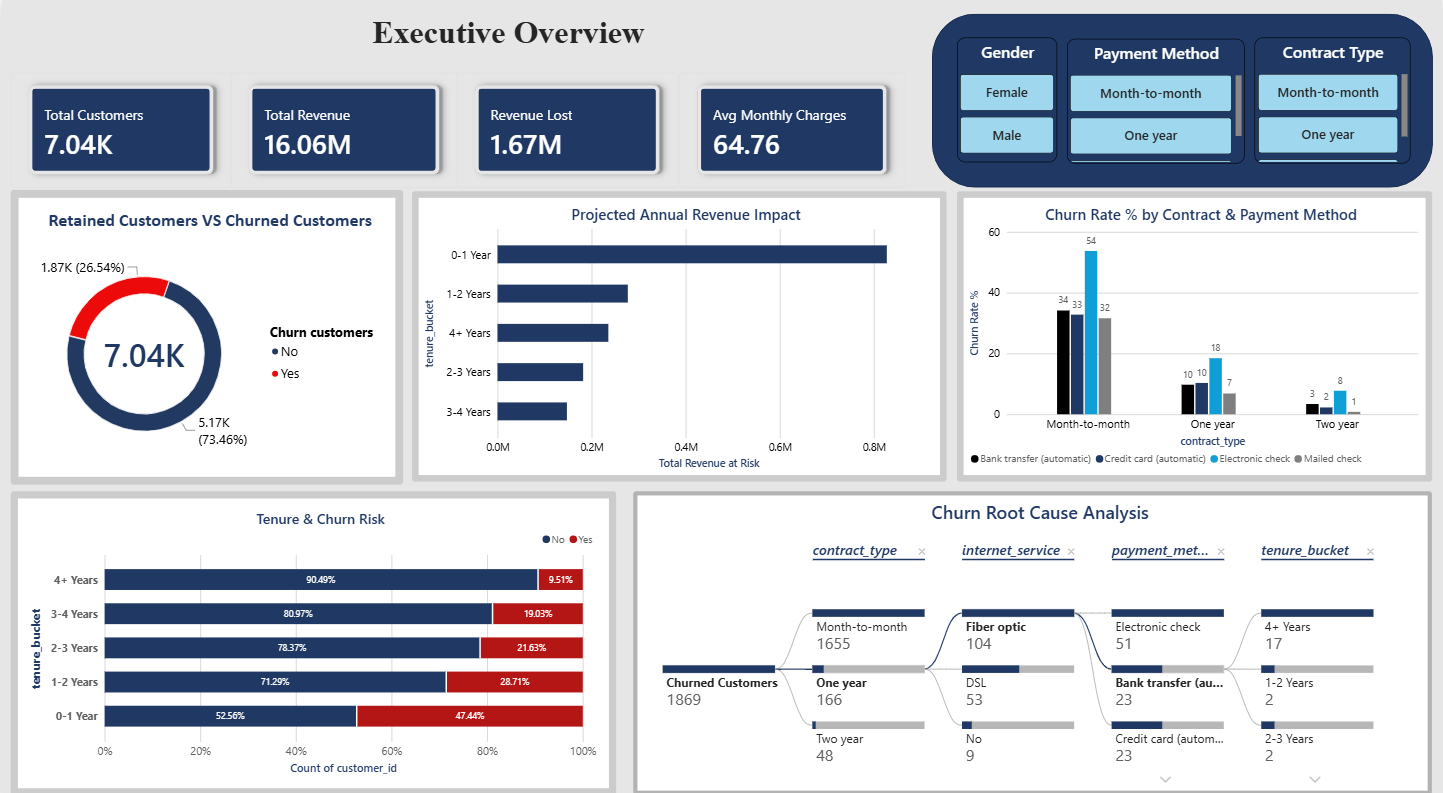

This screenshot's page, from the dashboard's own definition file:
{"tool":"powerbi","page":{"name":"Churn Overview","canvas":[1920,1080],"ordinal":0},"visuals":[{"type":"cardVisual","fields":{"Data":["telecom_churn_cleaned.Total Customers"]},"box":[10.9,95.9,295,153.8],"z":0},{"type":"hundredPercentStackedBarChart","title":"Tenure & Churn Risk","fields":{"Category":["telecom_churn_cleaned.tenure_bucket"],"Y":["Count(telecom_churn_cleaned.customer_id)"],"Series":["telecom_churn_cleaned.churn"]},"box":[10.9,655.1,807.1,405.4],"z":1000},{"type":"textbox","box":[10.9,18.1,1283,67],"z":2000},{"type":"cardVisual","fields":{"Data":["telecom_churn_cleaned.Total Revenue"]},"box":[305.8,95.9,302.2,153.8],"z":3000},{"type":"cardVisual","fields":{"Data":["telecom_churn_cleaned.Avg Monthly Charges"]},"box":[903.5,95.9,300.4,153.8],"z":4000},{"type":"shape","box":[1239.6,18.1,667.8,231.6],"z":5000},{"type":"advancedSlicerVisual","title":"Gender","fields":{"Values":["telecom_churn_cleaned.gender"]},"box":[1274,50.7,133.9,166.5],"z":6000},{"type":"advancedSlicerVisual","title":"Payment Method","fields":{"Values":["telecom_churn_cleaned.contract_type"]},"box":[1420.6,52.5,237.1,166.5],"z":7000},{"type":"advancedSlicerVisual","title":"Contract Type","fields":{"Values":["telecom_churn_cleaned.contract_type"]},"box":[1670.3,50.7,208.1,168.3],"z":8000},{"type":"barChart","title":"Projected Annual Revenue Impact","fields":{"Category":["telecom_churn_cleaned.tenure_bucket"],"Y":["telecom_churn_cleaned.Total Revenue at Risk"]},"box":[546.5,255.2,713,387.3],"z":9000},{"type":"clusteredColumnChart","title":"Churn Rate % by Contract & Payment Method","fields":{"Category":["telecom_churn_cleaned.contract_type"],"Y":["telecom_churn_cleaned.Churn Rate %"],"Series":["telecom_churn_cleaned.payment_method"]},"box":[1274,255.2,633.4,387.3],"z":10000},{"type":"decompositionTreeVisual","title":"Churn Root Cause Analysis","fields":{"Analyze":["Sum(telecom_churn_cleaned.is_churned)"],"ExplainBy":["telecom_churn_cleaned.contract_type","telecom_churn_cleaned.internet_service","telecom_churn_cleaned.payment_method","telecom_churn_cleaned.tenure_bucket"]},"box":[841.7,655,1065,405],"z":11000},{"type":"donutChart","title":"Retained Customers VS Churned Customers","fields":{"Y":["CountNonNull(telecom_churn_cleaned.churn)"],"Category":["telecom_churn_cleaned.churn"]},"box":[10.9,253.4,523,392.7],"z":12000},{"type":"cardVisual","fields":{"Data":["telecom_churn_cleaned.Total Revenue at Risk"]},"box":[607,95.9,295,153.8],"z":13000}]}

Visuals, with their boxes in screenshot pixels (x1, y1, x2, y2), scaled from the page's 1920x1080 canvas onto the 1443x793 screenshot:
cardVisual - telecom_churn_cleaned.Total Customers: region(8, 70, 230, 183)
"Tenure & Churn Risk" hundredPercentStackedBarChart: region(8, 481, 615, 779)
textbox: region(8, 13, 972, 62)
cardVisual - telecom_churn_cleaned.Total Revenue: region(230, 70, 457, 183)
cardVisual - telecom_churn_cleaned.Avg Monthly Charges: region(679, 70, 905, 183)
shape: region(932, 13, 1434, 183)
"Gender" advancedSlicerVisual: region(957, 37, 1058, 159)
"Payment Method" advancedSlicerVisual: region(1068, 39, 1246, 161)
"Contract Type" advancedSlicerVisual: region(1255, 37, 1412, 161)
"Projected Annual Revenue Impact" barChart: region(411, 187, 947, 472)
"Churn Rate % by Contract & Payment Method" clusteredColumnChart: region(957, 187, 1434, 472)
"Churn Root Cause Analysis" decompositionTreeVisual: region(633, 481, 1433, 778)
"Retained Customers VS Churned Customers" donutChart: region(8, 186, 401, 474)
cardVisual - telecom_churn_cleaned.Total Revenue at Risk: region(456, 70, 678, 183)
